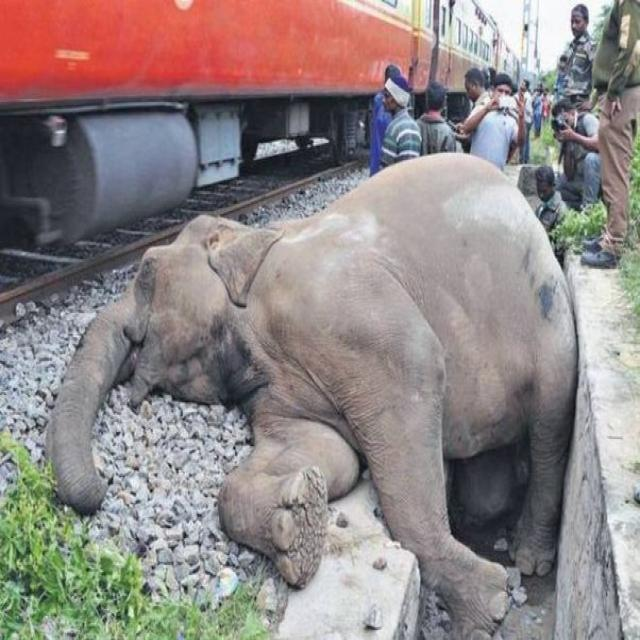Elephant: (35, 138, 579, 608)
